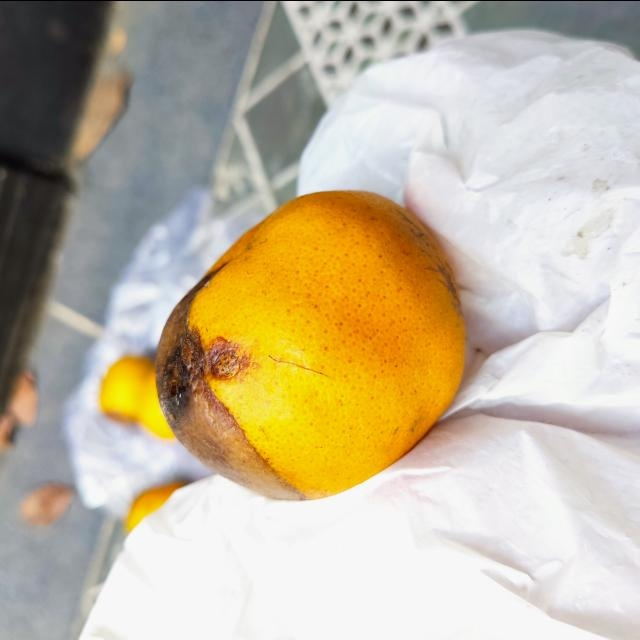agrume: (155, 188, 469, 500)
